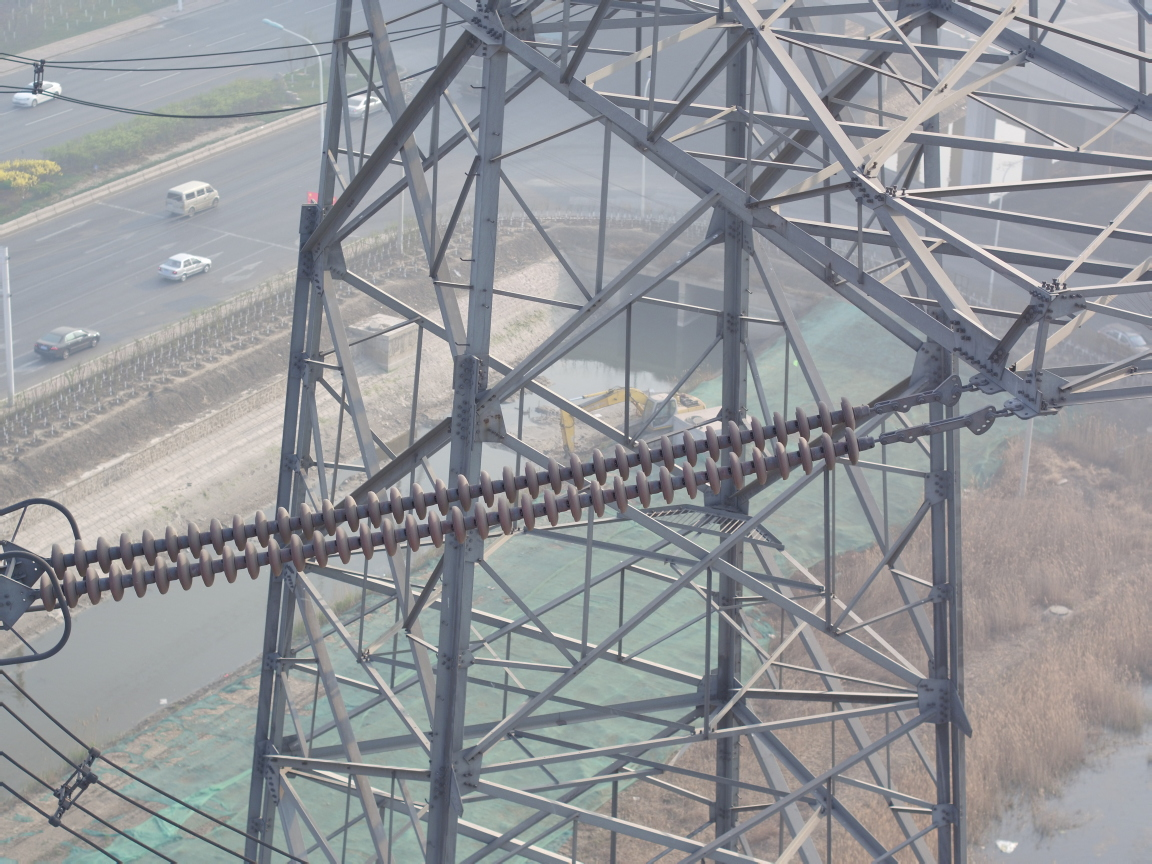insulator: (16, 391, 933, 620)
